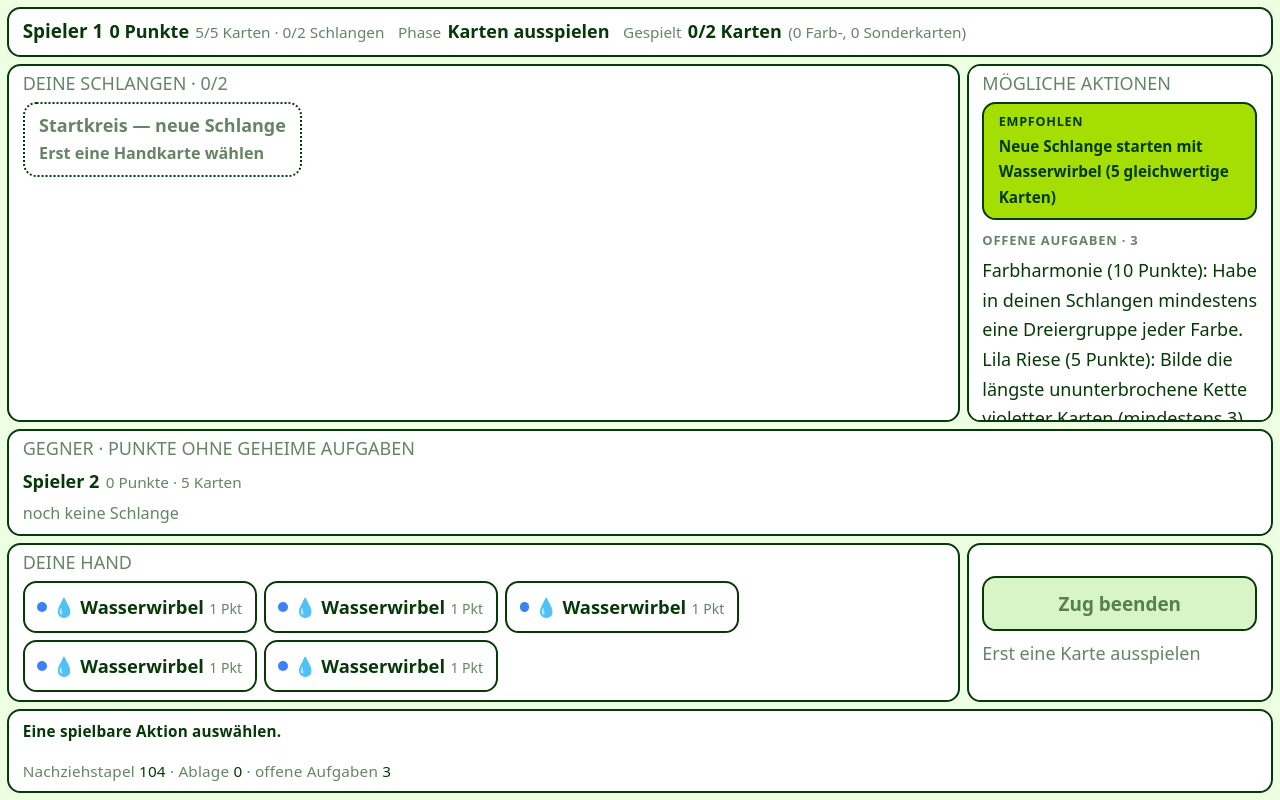
it: R17 — ein Klick führt die Aktion über die Engine aus › startet eine neue Schlange und schreibt sie aufs Brett
Click the button that starts with "Empfohlen". click: (1120, 161)
box: [982, 102, 1257, 220]
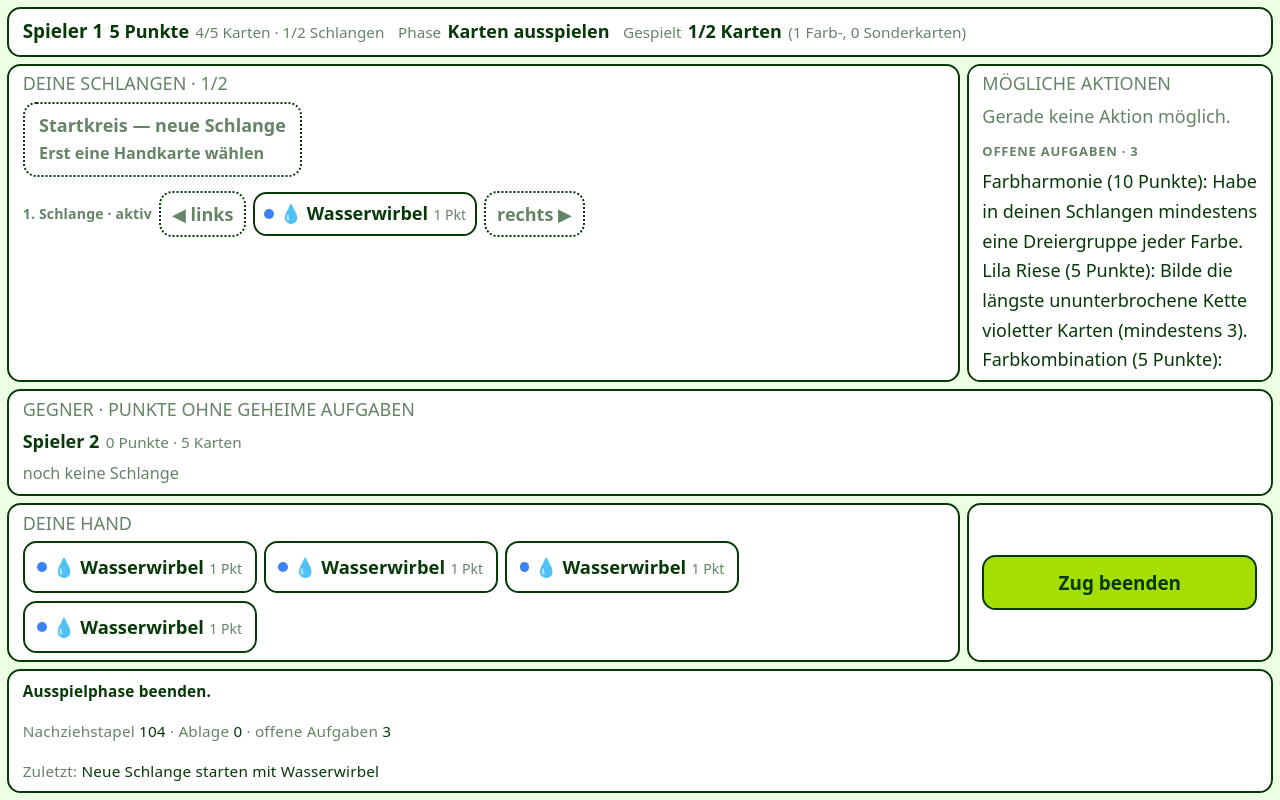
Now the element "Deine Schlangen" shows "1. Schlange", box [7, 64, 960, 382]
